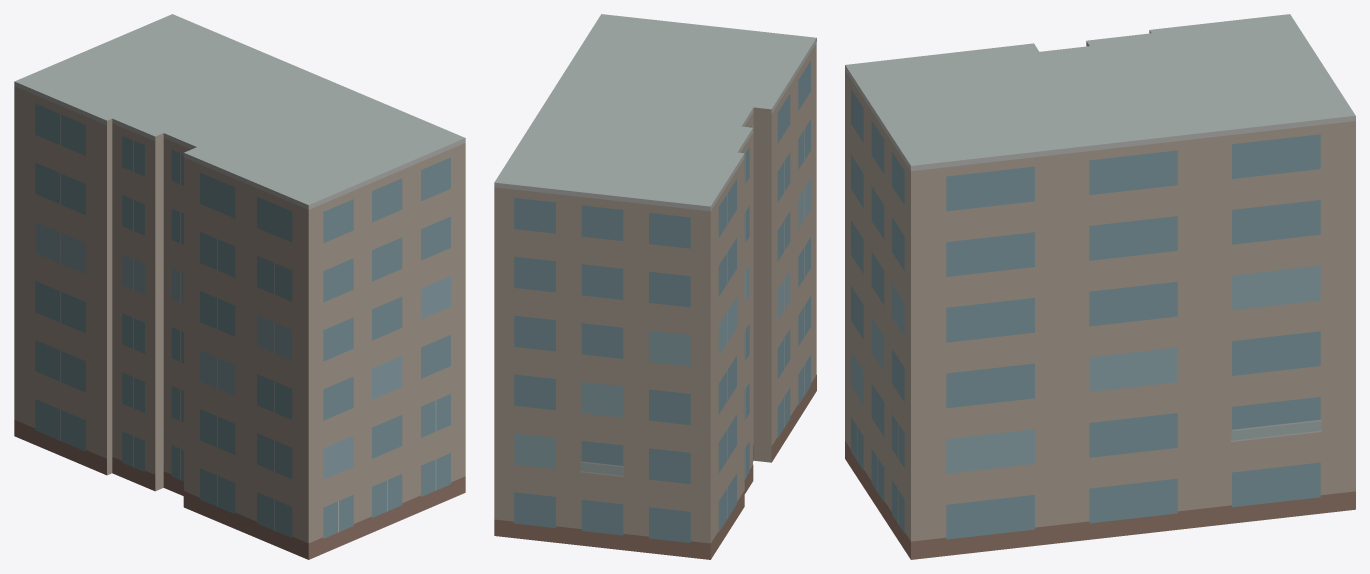
Rendered from survey-upis-32964367.glb.
3 renders of one model, left to right at view 1: azimuth 30°, elevation 25°; view 2: azimuth 150°, elevation 25°; view 3: azimuth 270°, elevation 25°, orthographic. The views are drawn at different scales.
Parts seen in each view (by area): view 1: survey-upis-32964367.tmp; view 2: survey-upis-32964367.tmp; view 3: survey-upis-32964367.tmp.
Boxes of the visible parts, x1=… form: survey-upis-32964367.tmp: x1=14, y1=14, x2=465, y2=559; survey-upis-32964367.tmp: x1=494, y1=14, x2=816, y2=559; survey-upis-32964367.tmp: x1=845, y1=14, x2=1355, y2=559.
Size of the model in its own units: 15.15 by 18.3 by 21.51.
